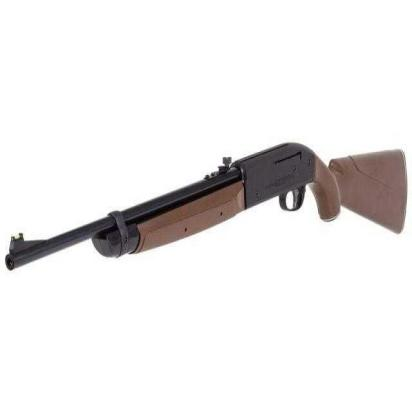Gun: (0, 138, 408, 300)
